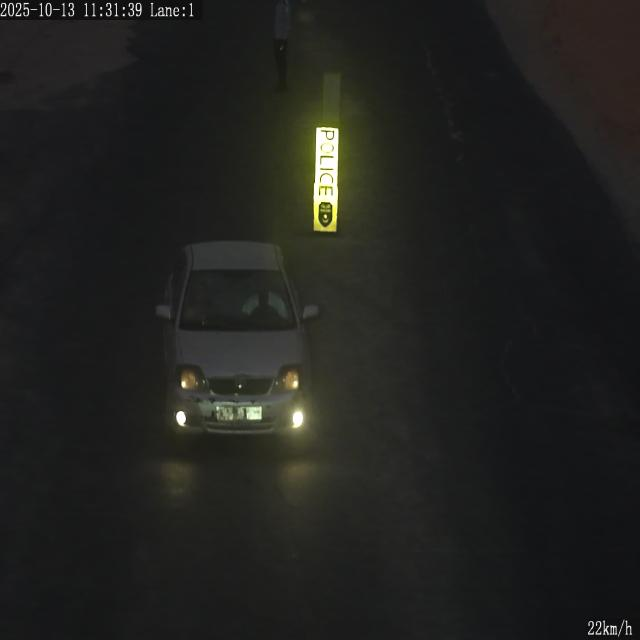BUS: (217, 407, 262, 422)
